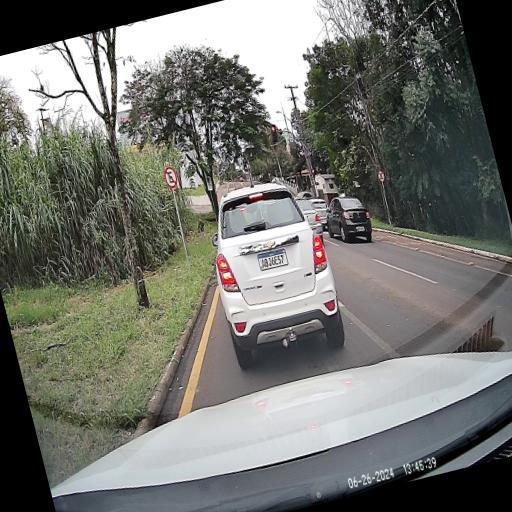R-6a: (162, 164, 179, 188)
R-6c: (376, 170, 386, 182)
